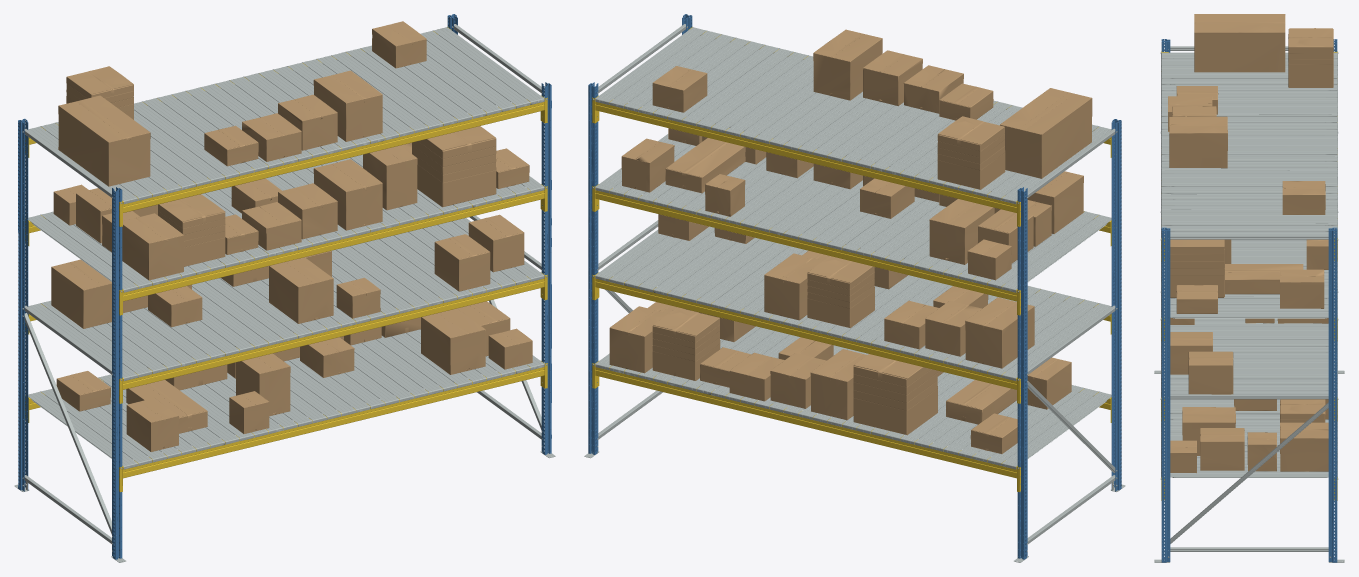
Rendered from rack_composition_l08.glb.
3 views of the same model, side by side, from view 1: azimuth 30°, elevation 25°; view 2: azimuth 150°, elevation 25°; view 3: azimuth 270°, elevation 25° (orthographic). The views are drawn at different scales.
Bounding box in the file's own units: 3.1 × 2.74 × 1.3.
